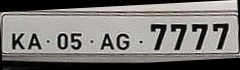character: (169, 22, 188, 51), (190, 22, 208, 51), (211, 22, 230, 49), (149, 22, 167, 50), (26, 32, 42, 50), (100, 31, 115, 50), (115, 32, 130, 50), (10, 31, 24, 50), (56, 32, 69, 50), (69, 32, 82, 50)
